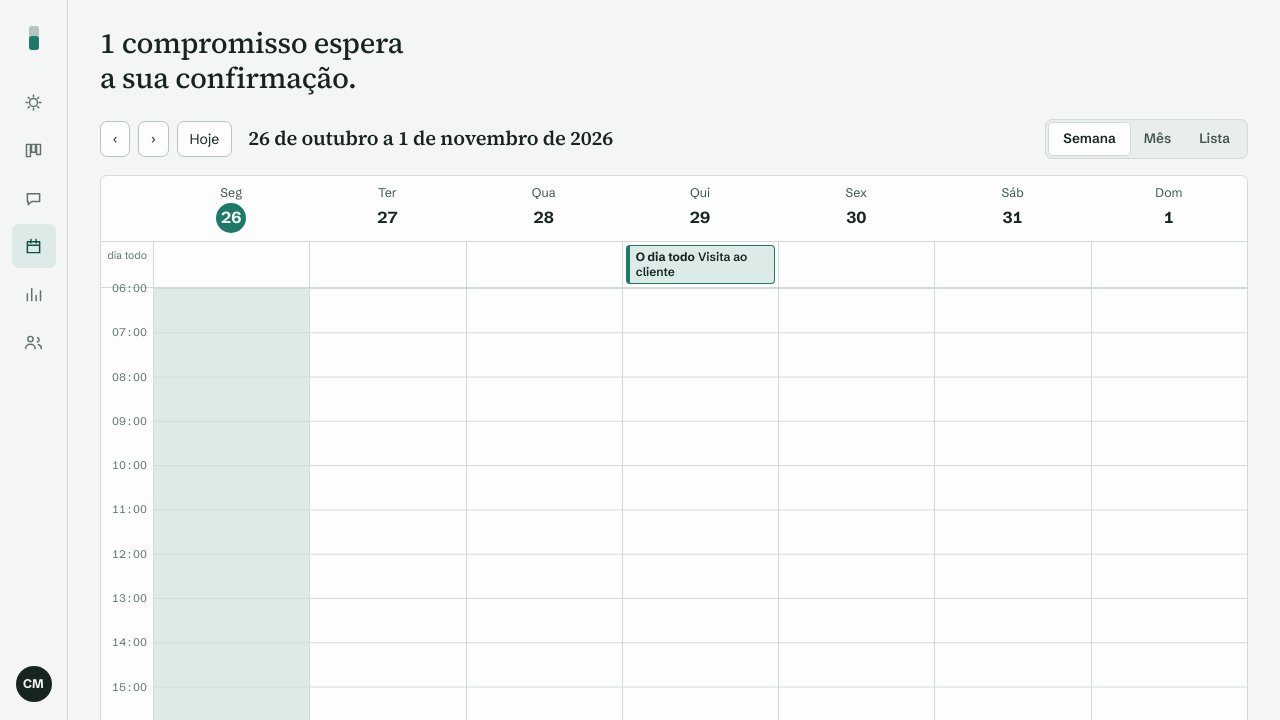
Scenario: agenda: month and list › lists the next appointments grouped by day
Click the button "Lista" at (1215, 139), box [1185,123,1244,155]
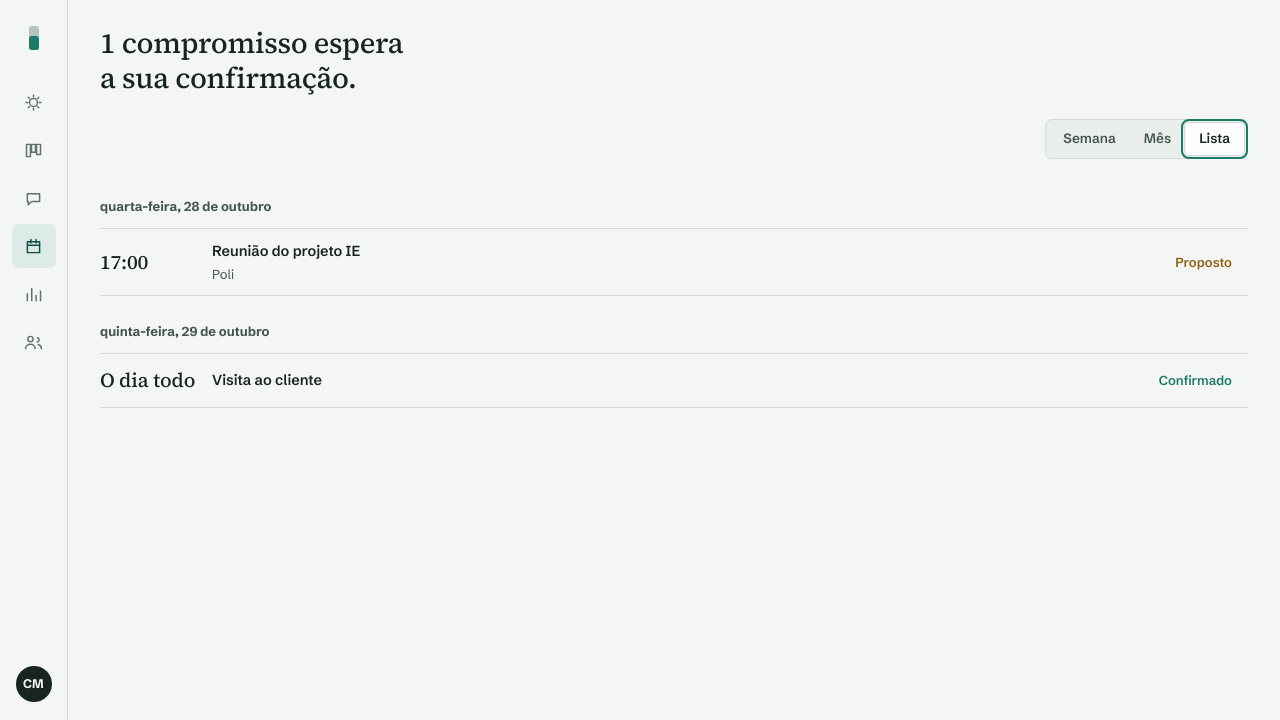
Check: the button "Reunião do projeto IE" is shown, box [212,241,1159,262]
Check: the element "quinta-feira, 29 de outubro" is shown, box [100,322,1248,408]
